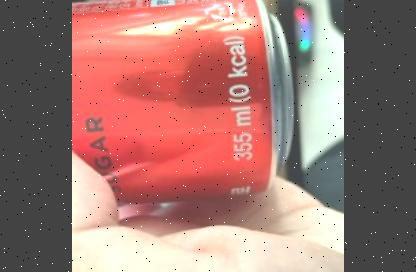Can: (72, 0, 290, 204)
